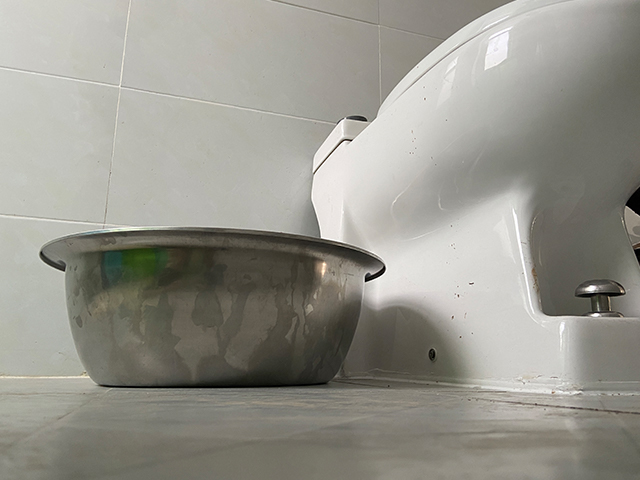closestool: (309, 1, 640, 399)
